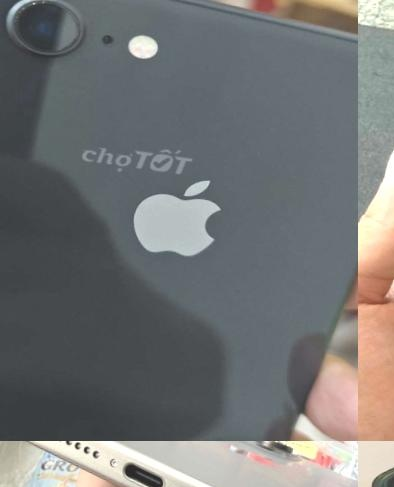scratch: (0, 0, 40, 36)
